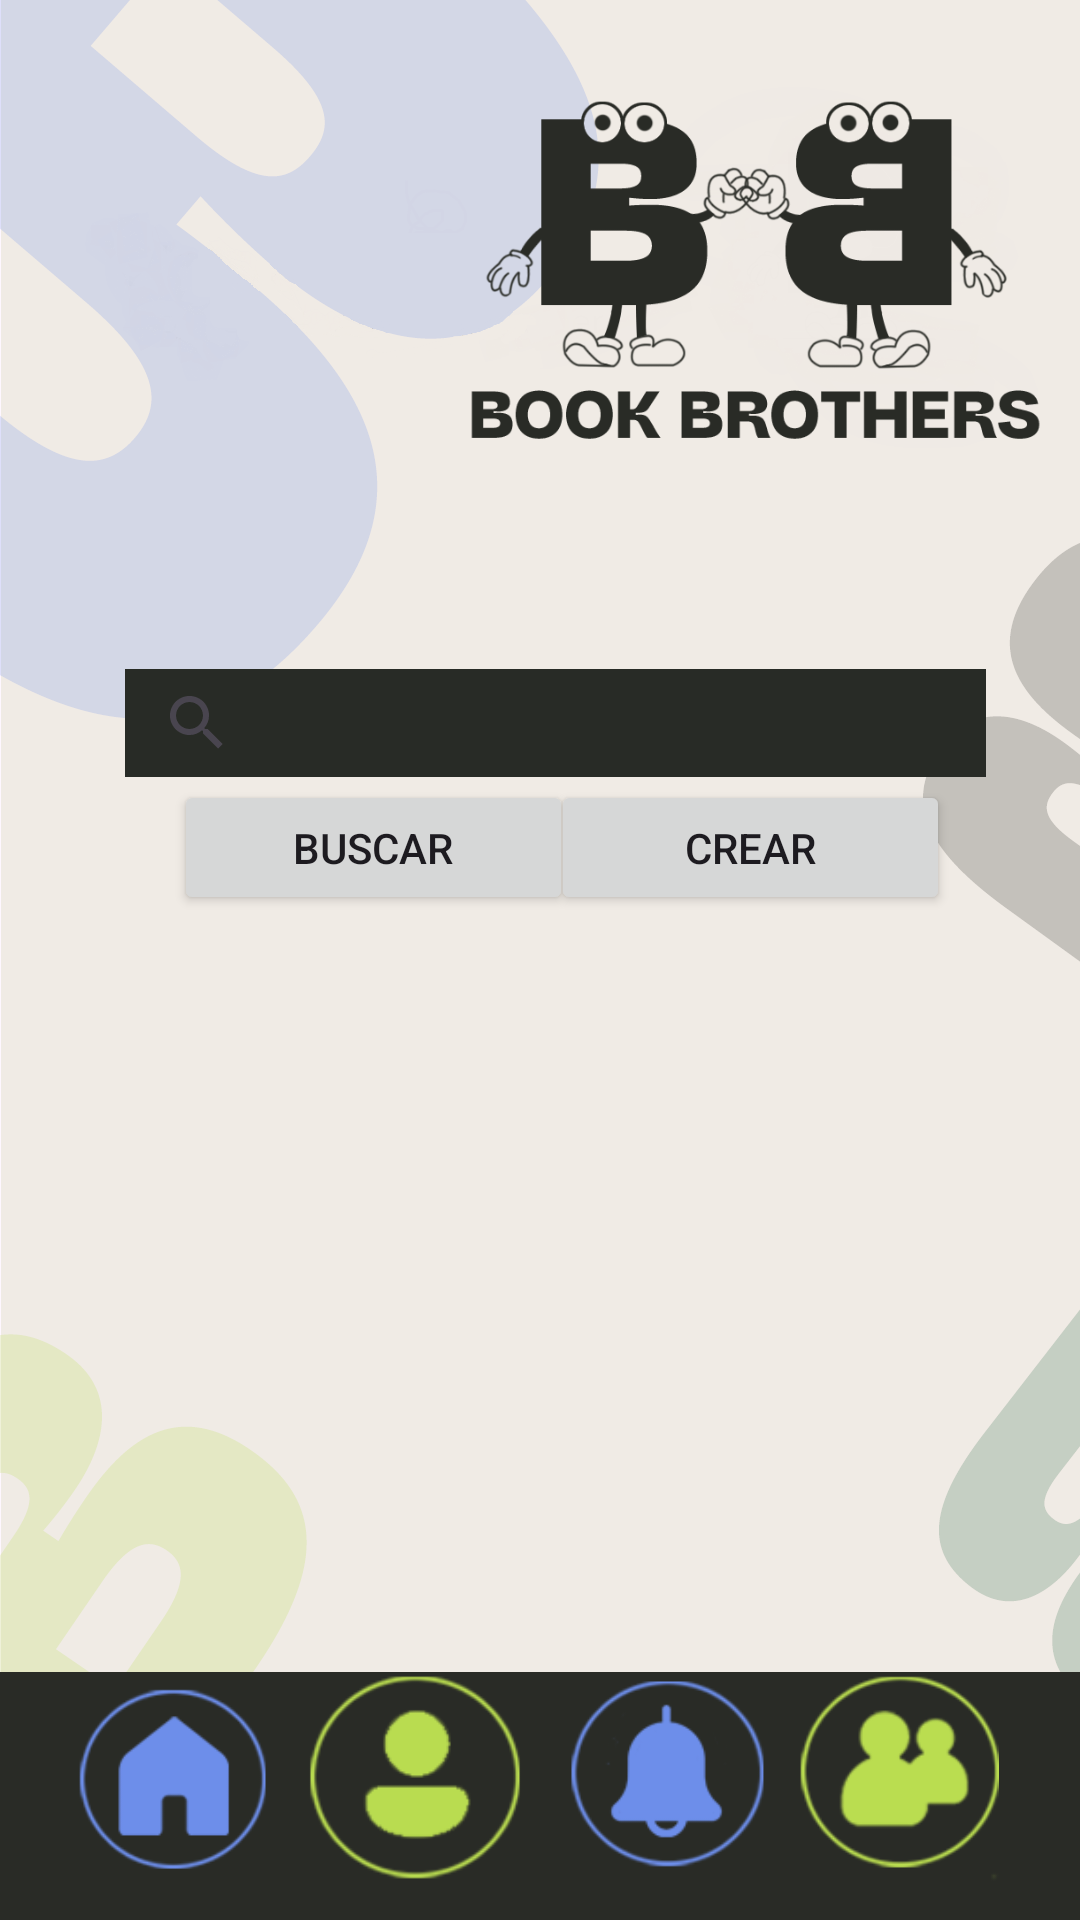

Icons on this 1080 x 1920 Android screen, each with the point to tap as (x,y):
amigos home: (899,1772)
home: (172,1779)
notificaciones home: (667,1774)
perfil home: (415,1777)
